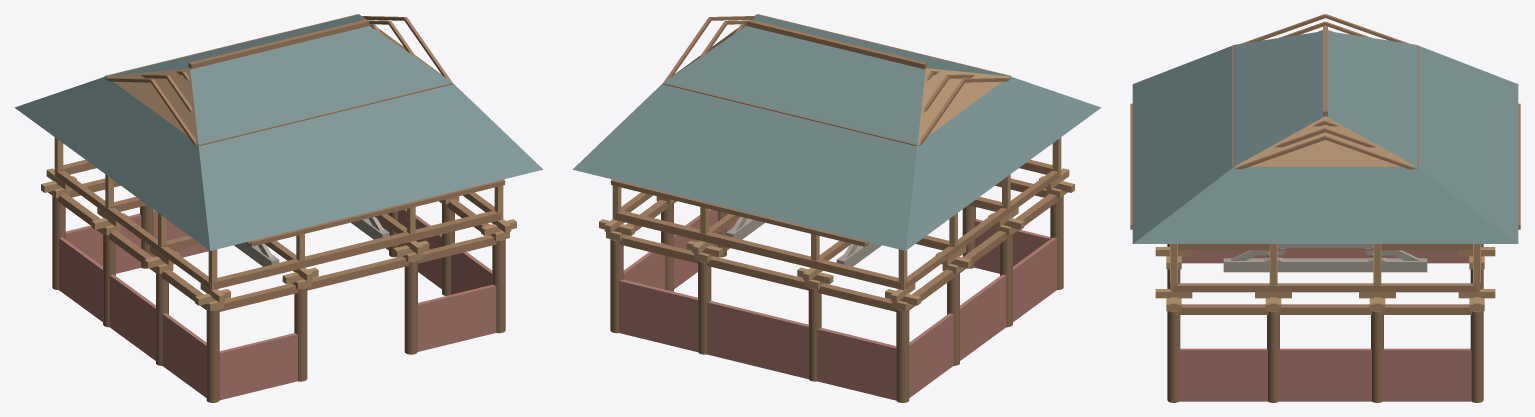
The model's file is WANFO_FULL_V001.glb.
3 renders of one model, left to right at view 1: azimuth 30°, elevation 25°; view 2: azimuth 150°, elevation 25°; view 3: azimuth 270°, elevation 25°, orthographic.
Parts seen in each view (by area): view 1: TMP_ROOF_LOWER_N, TMP_ROOF_UPPER_N, TMP_XIESHAN_HIP_W, TMP_FRONT_WALL_2, TMP_FRONT_WALL_0, TMP_FRAME_X_0, TMP_RIM_X_0, TMP_SIDE_WALL_-1_1, TMP_XIESHAN_GABLE_W, TMP_SIDE_WALL_-1_0, TMP_SIDE_WALL_-1_2, TMP_FRAME_Y_0 (+19 smaller); view 2: TMP_ROOF_LOWER_S, TMP_ROOF_UPPER_S, TMP_XIESHAN_HIP_W, TMP_REAR_WALL_1, TMP_REAR_WALL_0, TMP_REAR_WALL_2, TMP_FRAME_X_3, TMP_RIM_X_3, TMP_SIDE_WALL_-1_1, TMP_XIESHAN_GABLE_W, TMP_SIDE_WALL_-1_2, TMP_SIDE_WALL_-1_0 (+19 smaller); view 3: TMP_XIESHAN_HIP_E, TMP_ROOF_LOWER_N, TMP_ROOF_LOWER_S, TMP_ROOF_UPPER_N, TMP_ROOF_UPPER_S, TMP_SIDE_WALL_1_1, TMP_SIDE_WALL_1_0, TMP_SIDE_WALL_1_2, TMP_XIESHAN_GABLE_E, TMP_RIM_Y_3, TMP_FRAME_Y_3, east:FOUR_BEAM (+16 smaller).
Part boxes in pixels (left/top/right/bottom): TMP_ROOF_LOWER_N: left=198, top=82, right=542, bottom=250; TMP_ROOF_UPPER_N: left=190, top=26, right=451, bottom=143; TMP_XIESHAN_HIP_W: left=14, top=76, right=210, bottom=250; TMP_FRONT_WALL_2: left=417, top=284, right=496, bottom=351; TMP_FRONT_WALL_0: left=219, top=333, right=297, bottom=400; TMP_FRAME_X_0: left=214, top=210, right=500, bottom=289; TMP_RIM_X_0: left=219, top=235, right=496, bottom=311; TMP_SIDE_WALL_-1_1: left=109, top=274, right=155, bottom=360; TMP_XIESHAN_GABLE_W: left=106, top=68, right=198, bottom=143; TMP_SIDE_WALL_-1_0: left=162, top=313, right=206, bottom=397; TMP_SIDE_WALL_-1_2: left=59, top=237, right=102, bottom=321; TMP_FRAME_Y_0: left=56, top=170, right=210, bottom=288; TMP_ROOF_LOWER_S: left=573, top=82, right=917, bottom=250; TMP_ROOF_UPPER_S: left=664, top=26, right=925, bottom=143; TMP_XIESHAN_HIP_W: left=905, top=76, right=1101, bottom=250; TMP_REAR_WALL_1: left=707, top=301, right=808, bottom=379; TMP_REAR_WALL_0: left=817, top=327, right=896, bottom=400; TMP_REAR_WALL_2: left=619, top=279, right=698, bottom=352; TMP_FRAME_X_3: left=615, top=210, right=901, bottom=289; TMP_RIM_X_3: left=619, top=235, right=896, bottom=311; TMP_SIDE_WALL_-1_1: left=960, top=274, right=1006, bottom=360; TMP_XIESHAN_GABLE_W: left=917, top=68, right=1009, bottom=143; TMP_SIDE_WALL_-1_2: left=909, top=313, right=953, bottom=397; TMP_SIDE_WALL_-1_0: left=1013, top=237, right=1056, bottom=321; TMP_XIESHAN_HIP_E: left=1133, top=166, right=1517, bottom=243; TMP_ROOF_LOWER_N: left=1132, top=45, right=1234, bottom=243; TMP_ROOF_LOWER_S: left=1416, top=45, right=1518, bottom=243; TMP_ROOF_UPPER_N: left=1234, top=31, right=1324, bottom=165; TMP_ROOF_UPPER_S: left=1326, top=31, right=1416, bottom=165; TMP_SIDE_WALL_1_1: left=1279, top=348, right=1371, bottom=401; TMP_SIDE_WALL_1_0: left=1179, top=348, right=1267, bottom=401; TMP_SIDE_WALL_1_2: left=1383, top=348, right=1471, bottom=401; TMP_XIESHAN_GABLE_E: left=1235, top=116, right=1415, bottom=166; TMP_RIM_Y_3: left=1179, top=304, right=1471, bottom=314; TMP_FRAME_Y_3: left=1174, top=283, right=1476, bottom=292; east:FOUR_BEAM: left=1223, top=258, right=1427, bottom=272.
Bounding box in the file's own units: 13375 × 10235 × 13782.
